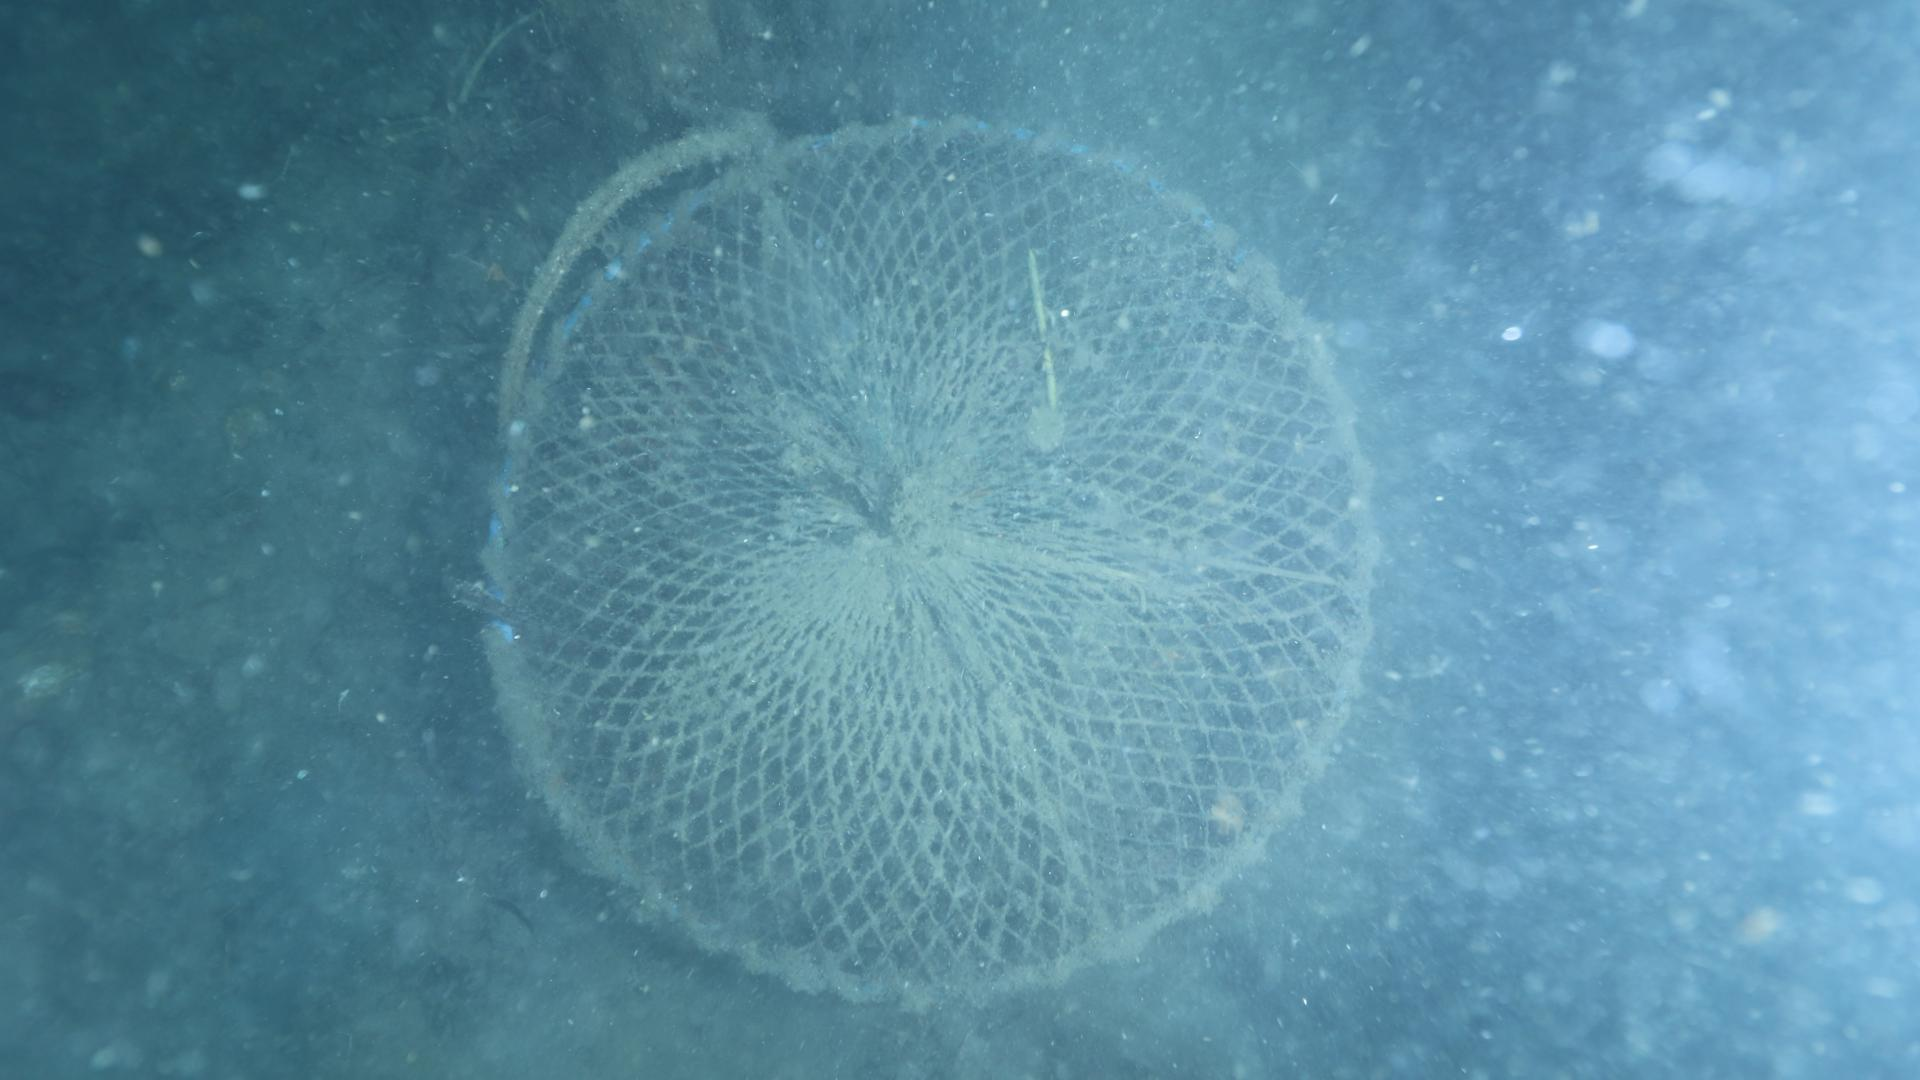bundle of ropes: (475, 76, 756, 407)
circular fish trap: (465, 108, 1386, 1011)
